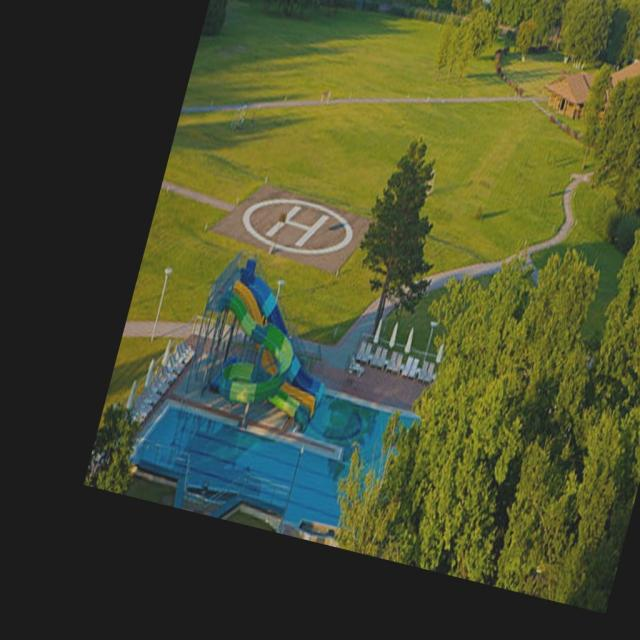helipad: (238, 194, 354, 256)
